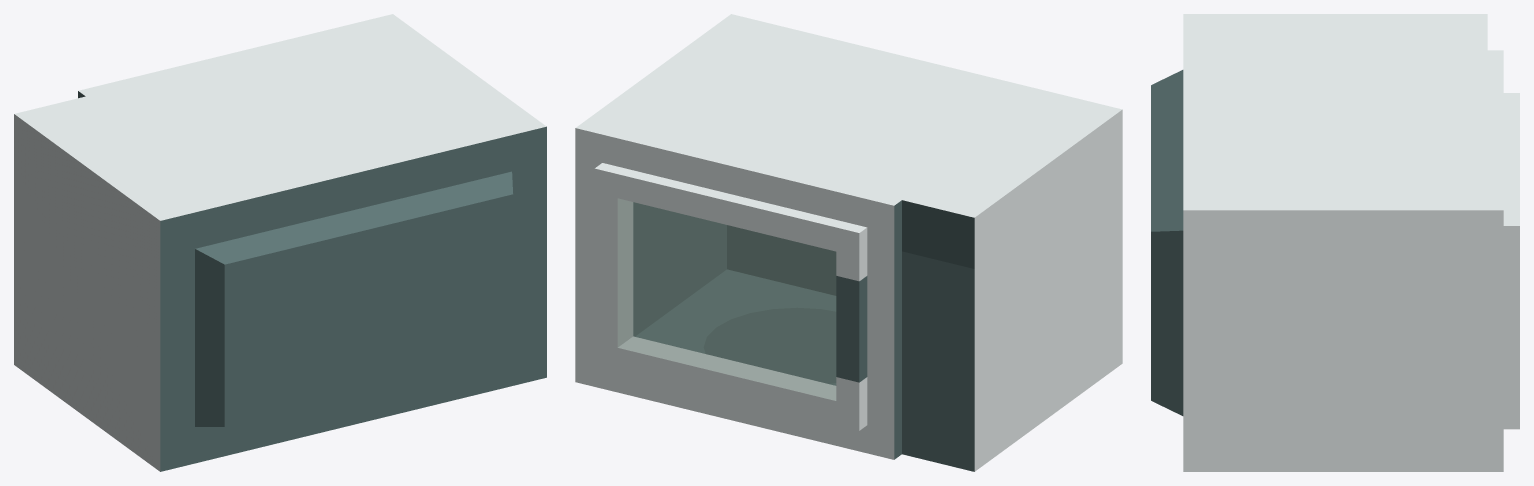
The model's file is kitchenMicrowave.fbx.
3 views of the same model, side by side, from view 1: azimuth 30°, elevation 25°; view 2: azimuth 150°, elevation 25°; view 3: azimuth 270°, elevation 25° (orthographic). The views are drawn at different scales.
Visible parts, largest first — view 1: kitchenMicrowave; view 2: kitchenMicrowave, Group; view 3: kitchenMicrowave, Group.
Boxes of the visible parts, bbox=[...] form: kitchenMicrowave: bbox=[14, 14, 546, 471]; kitchenMicrowave: bbox=[575, 14, 1122, 471]; Group: bbox=[594, 163, 867, 430]; kitchenMicrowave: bbox=[1151, 14, 1503, 471]; Group: bbox=[1503, 93, 1519, 429].
Bounding box in the file's own units: 2.9 × 1.8 × 2.3.
